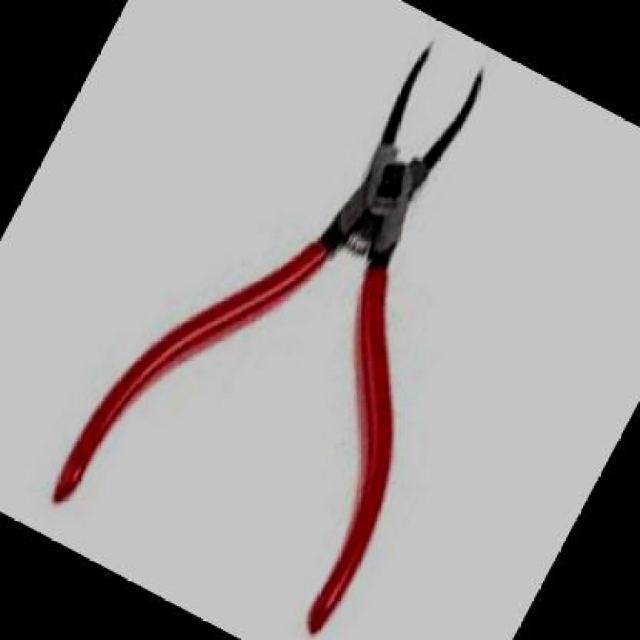pliers: (23, 0, 621, 638)
